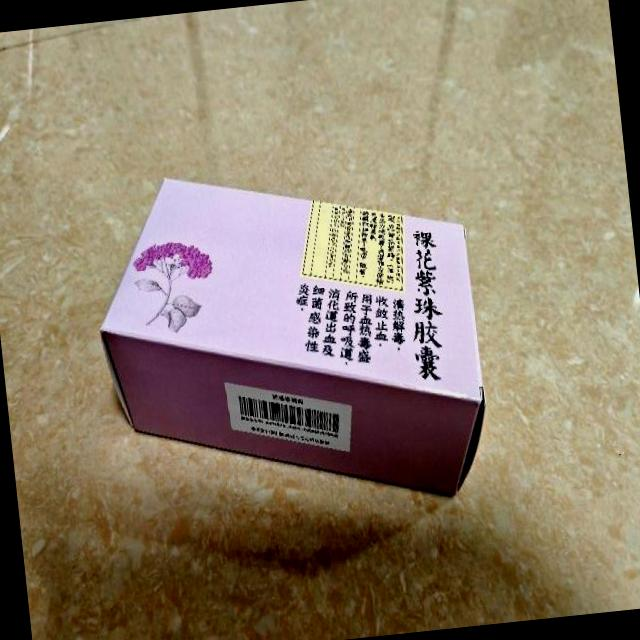box: (84, 147, 496, 532)
